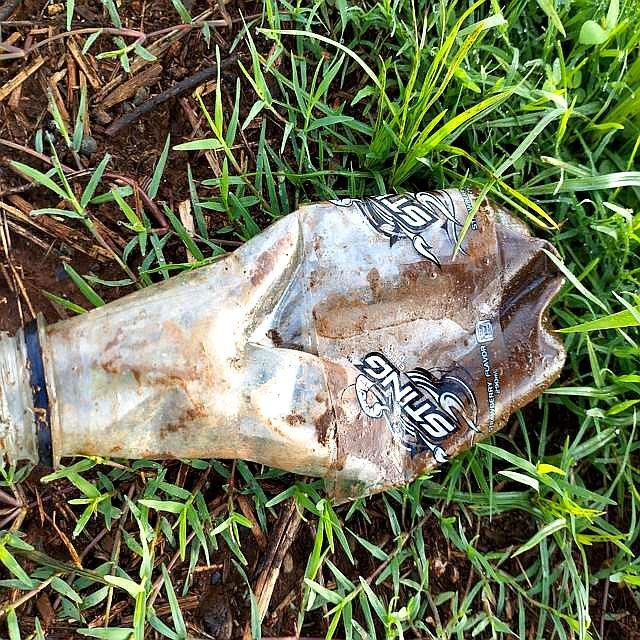Non-biodegradable: (3, 189, 569, 485)
